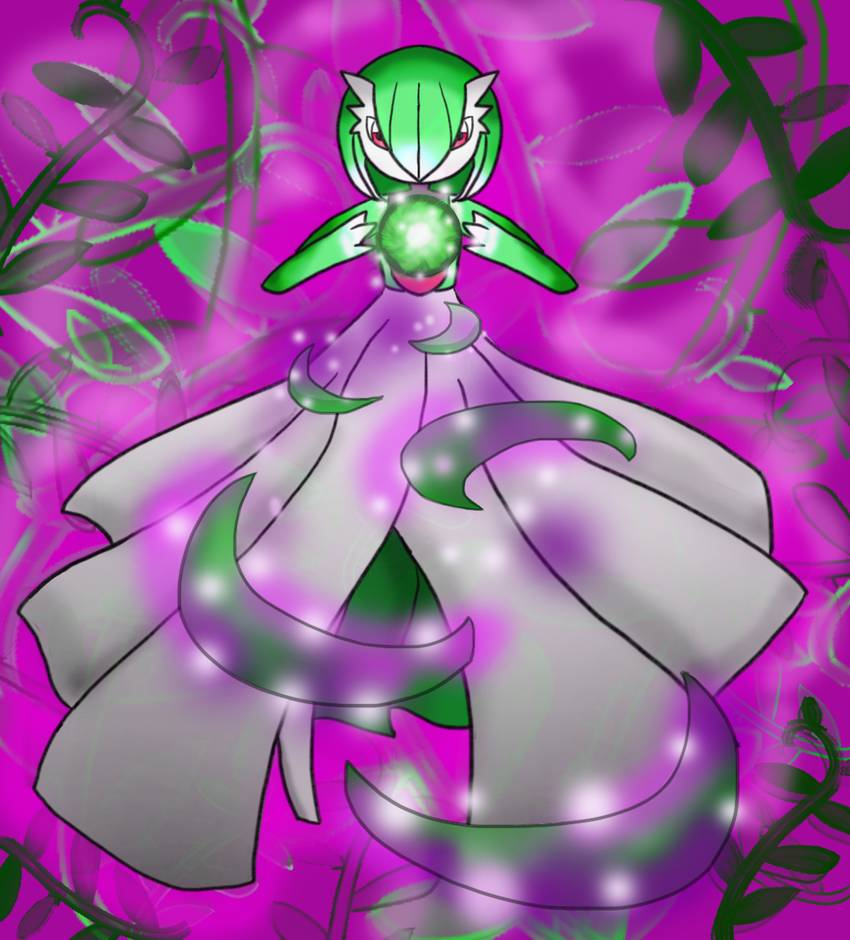gardevoir: (26, 70, 807, 894)
